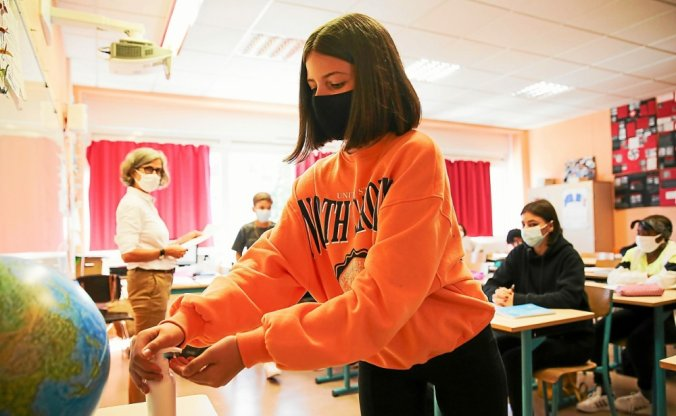with_mask: (304, 47, 364, 143), (519, 207, 550, 248), (131, 156, 161, 197), (634, 221, 666, 254), (253, 197, 274, 223)
